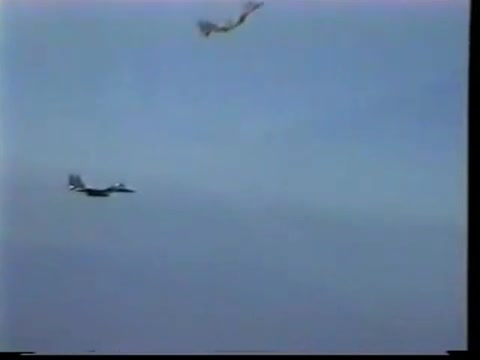aeroplane: (69, 173, 138, 199)
